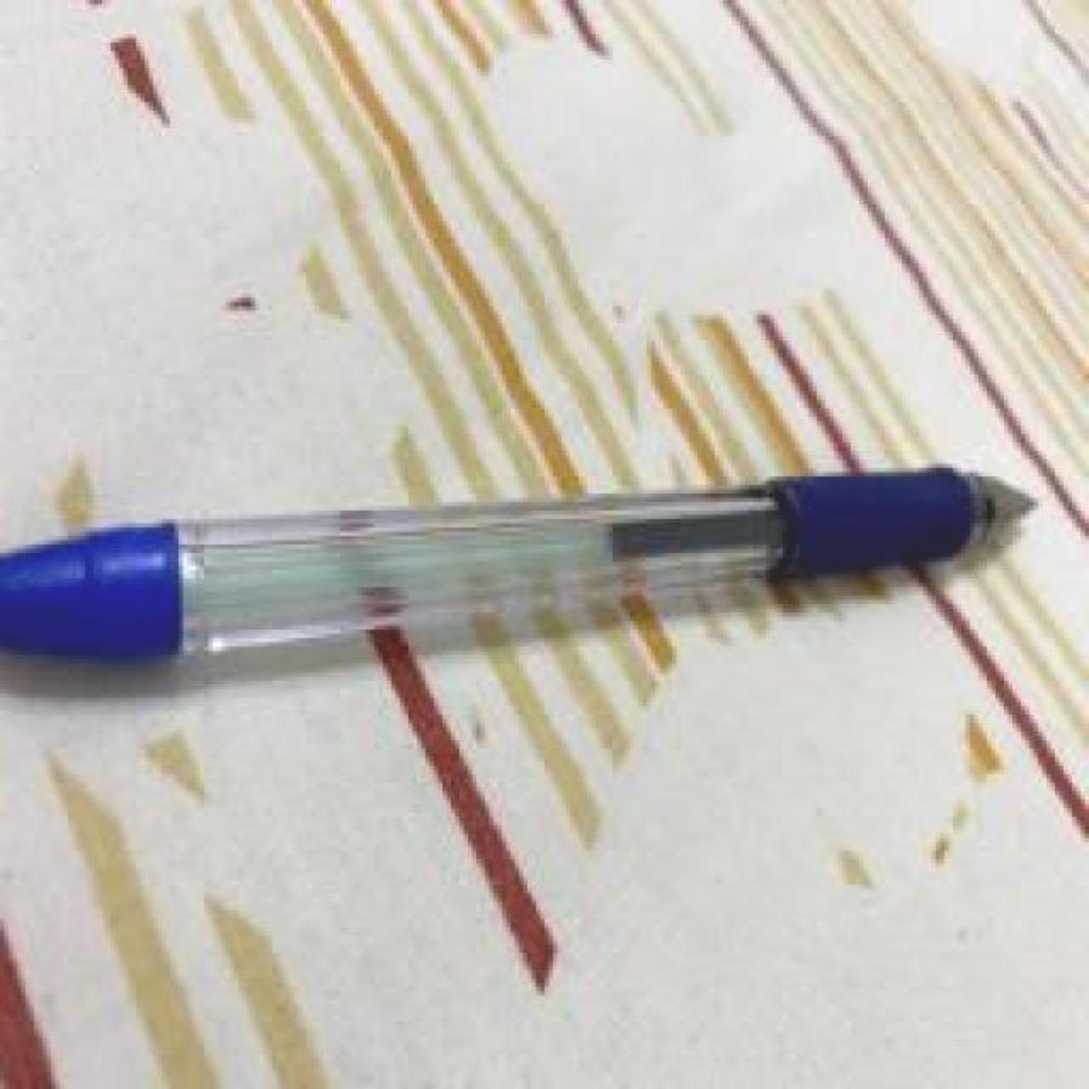pen: (0, 451, 1038, 669)
